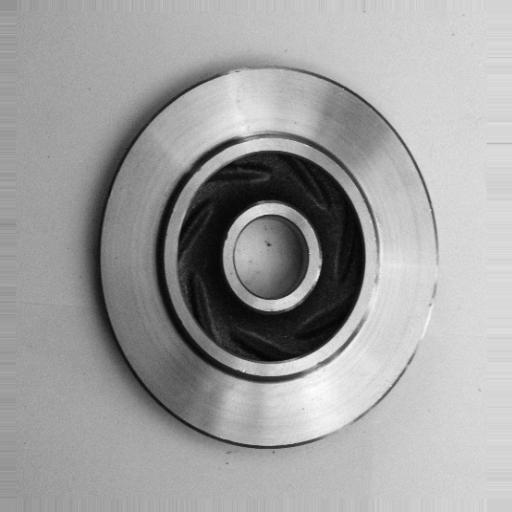scratch: (400, 255, 449, 361)
unpolished_casting: (93, 61, 441, 456)
